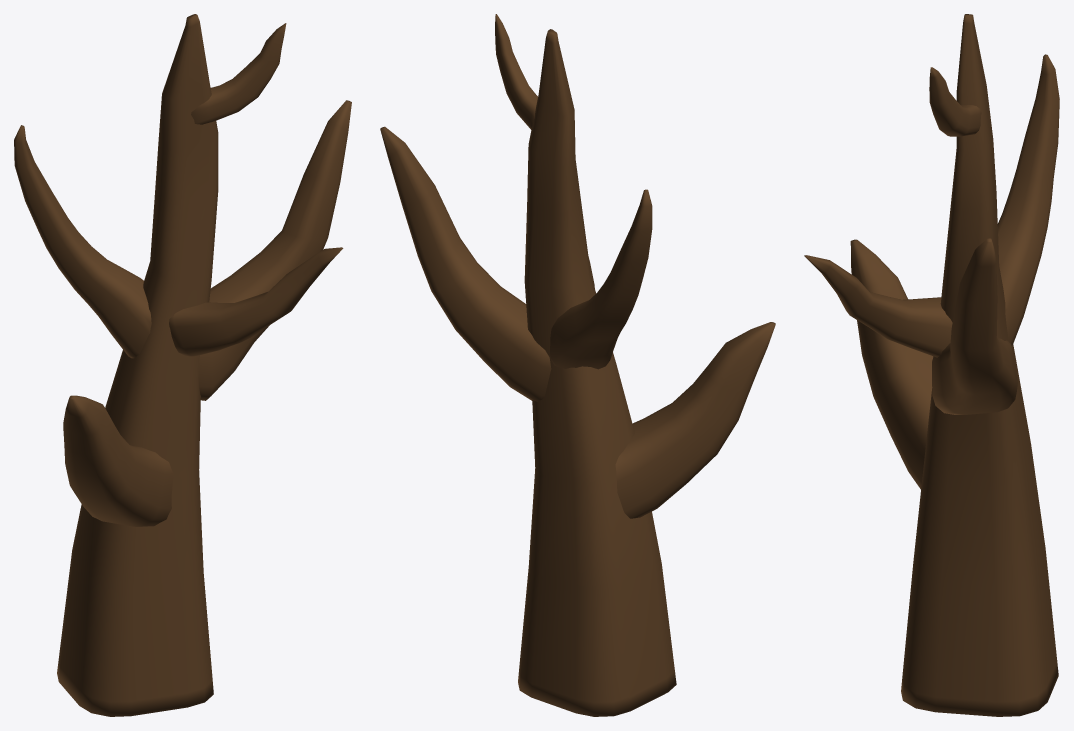
File: TREEEEE.fbx
3 views of the same model, side by side, from view 1: azimuth 30°, elevation 25°; view 2: azimuth 150°, elevation 25°; view 3: azimuth 270°, elevation 25° (orthographic). The views are drawn at different scales.
Parts seen in each view (by area): view 1: Tree.001; view 2: Tree.001; view 3: Tree.001.
Part boxes in pixels (<box>): Tree.001: <box>14,14,351,716</box>; Tree.001: <box>380,14,775,716</box>; Tree.001: <box>804,14,1059,716</box>.
Bounding box in the file's own units: 1805 × 3291 × 1094.
